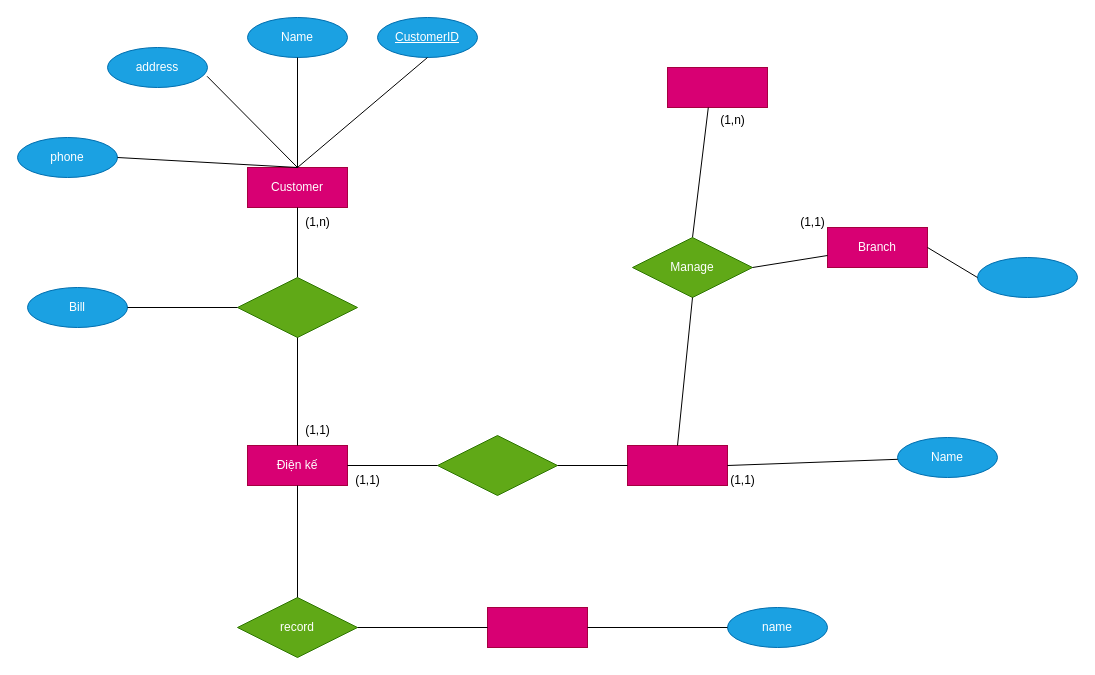
This 1095x675 diagram has some shape labels left out. Each missing label, with the box of its shape:
company: (666, 66, 768, 108)
employee: (486, 606, 588, 648)
Hire: (236, 276, 358, 338)
position: (976, 256, 1078, 298)
PowerStation: (626, 444, 728, 486)
Use: (436, 434, 558, 496)
